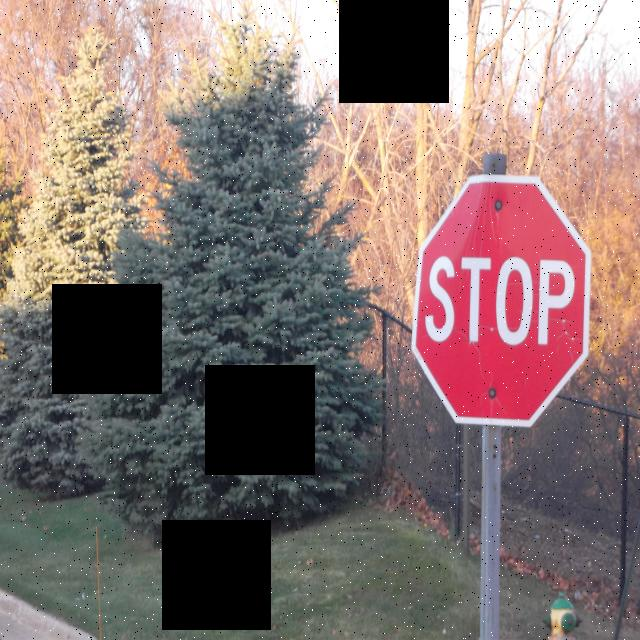stop: (414, 173, 592, 431)
